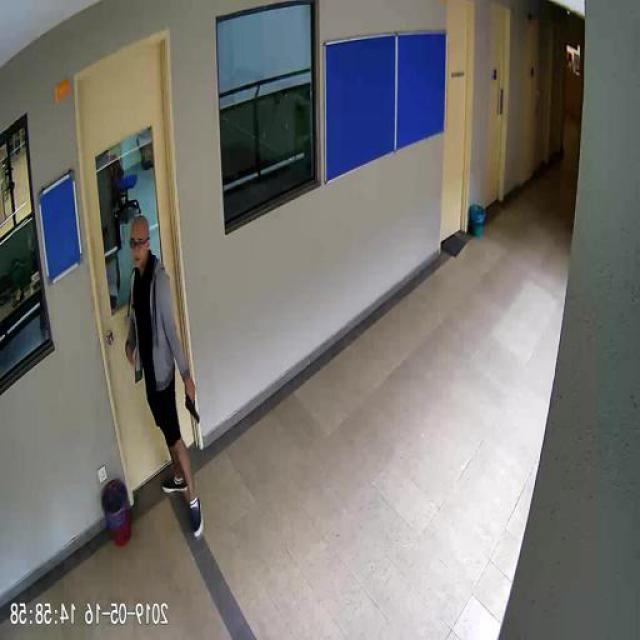Gun: (186, 388, 202, 422)
